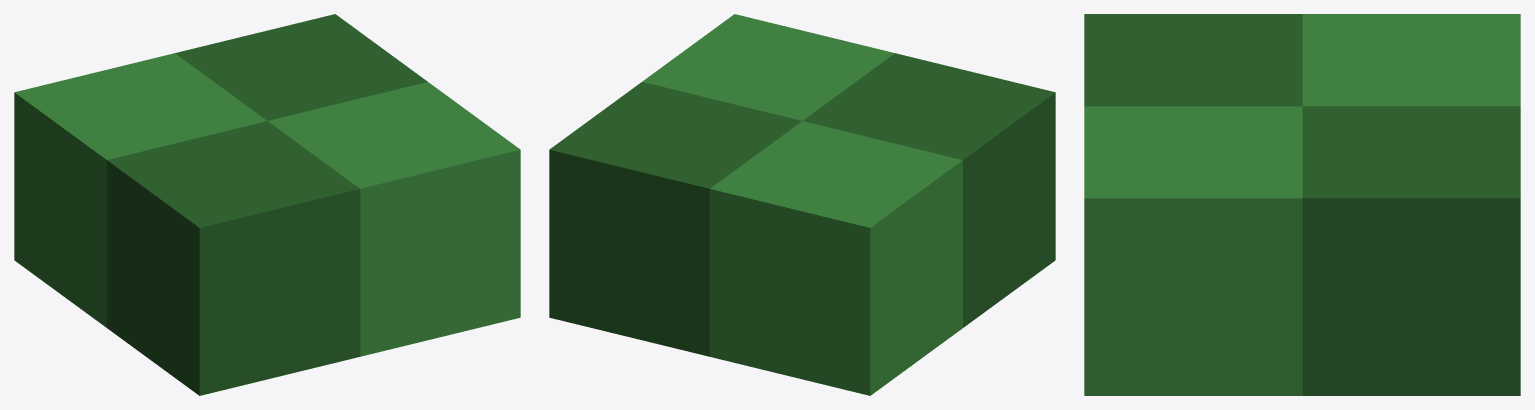
Rendered from Medieval Assets-205-Grass Cube - Use as Terrain Grass.obj.
The picture shows the model from 3 angles, left to right: view 1: azimuth 30°, elevation 25°; view 2: azimuth 150°, elevation 25°; view 3: azimuth 270°, elevation 25°; orthographic projection. The views are drawn at different scales.
Visible parts, largest first — view 1: Grass Cube - Use as Terrain Grass; view 2: Grass Cube - Use as Terrain Grass; view 3: Grass Cube - Use as Terrain Grass.
Boxes of the visible parts, x1,y1,x2,y2 form: Grass Cube - Use as Terrain Grass: (14, 14, 520, 395); Grass Cube - Use as Terrain Grass: (549, 14, 1055, 395); Grass Cube - Use as Terrain Grass: (1084, 14, 1520, 395).
Size of the model in its own units: 0.2 by 0.1 by 0.2.
1 material, 1 textured.
